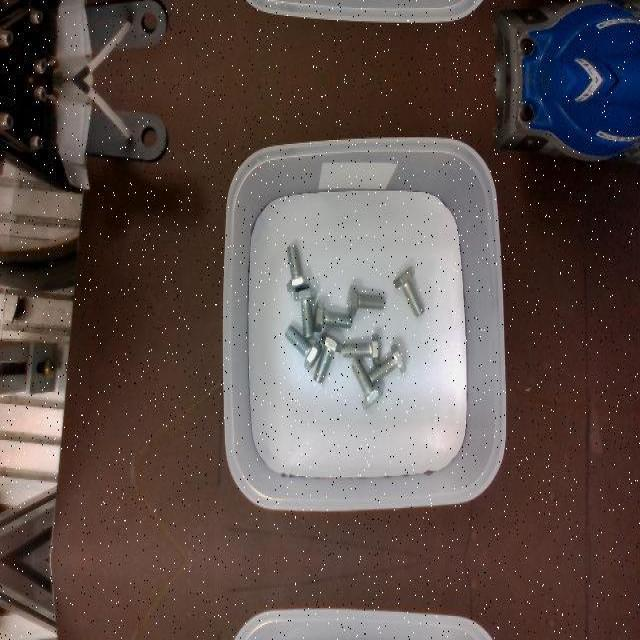screw: (284, 324, 322, 370), (350, 356, 382, 410), (368, 342, 406, 384), (313, 332, 342, 384), (313, 300, 352, 332), (342, 334, 380, 366), (286, 243, 310, 291), (294, 288, 317, 338), (347, 283, 385, 313)
